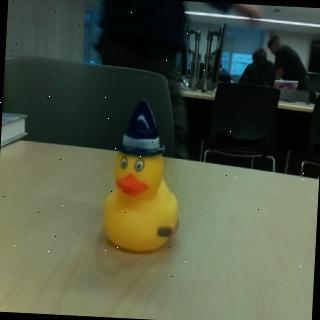duck_specialty: (100, 96, 188, 255)
